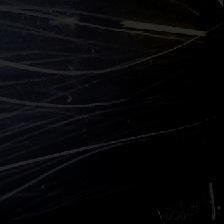door_scratch: (1, 0, 203, 218)
